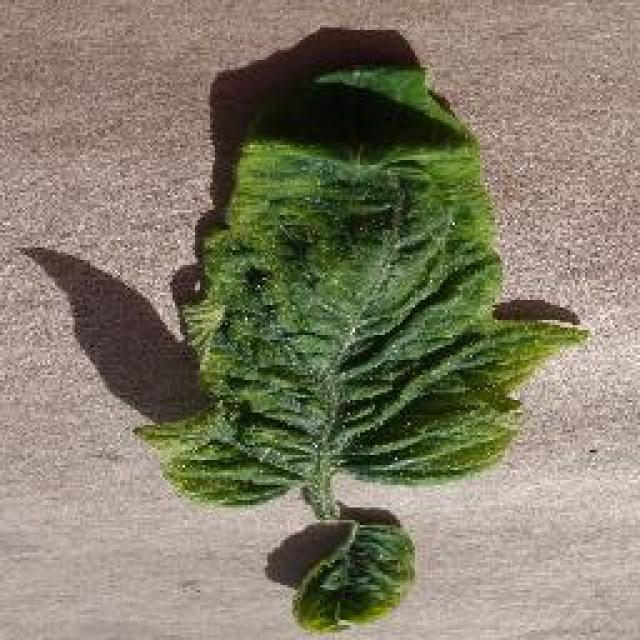Tomato yellow virus leaf: (132, 57, 572, 495), (269, 521, 416, 639)
